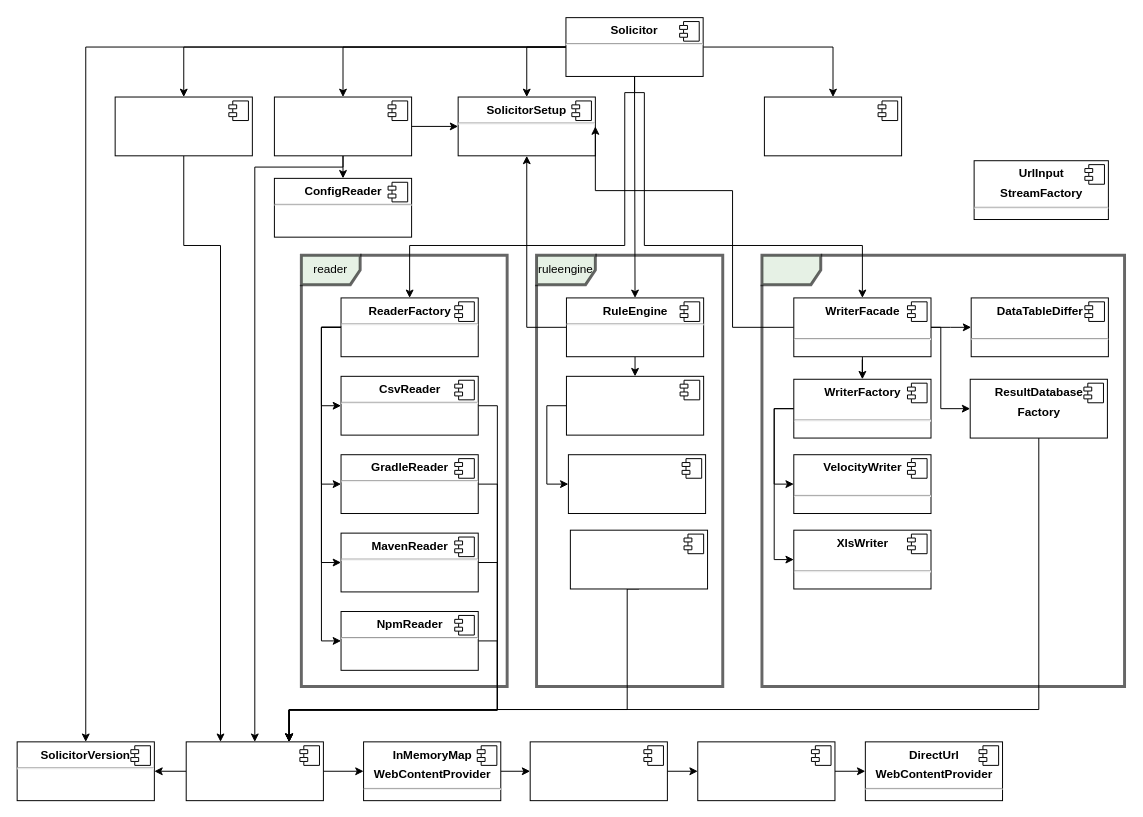
Some shapes in this 1143 by 817 pixel diagram are drawn without their labels. The shapes that lost their labels are listed below. From the top down, each one's centre as x and y in pixels, then its label:
pixel 183 126: ModelImporterExporter
pixel 342 126: ConfigFactory
pixel 832 126: ResourceTo FileCopier
pixel 634 405: DroolsRules ReaderFactory
pixel 636 484: DroolsDecision TableReader
pixel 943 470: writer
pixel 638 559: ModelHelper
pixel 254 771: ModelFactory
pixel 598 771: ClassPath WebContentProvider
pixel 766 771: FileSystemCaching WebContentProvider
